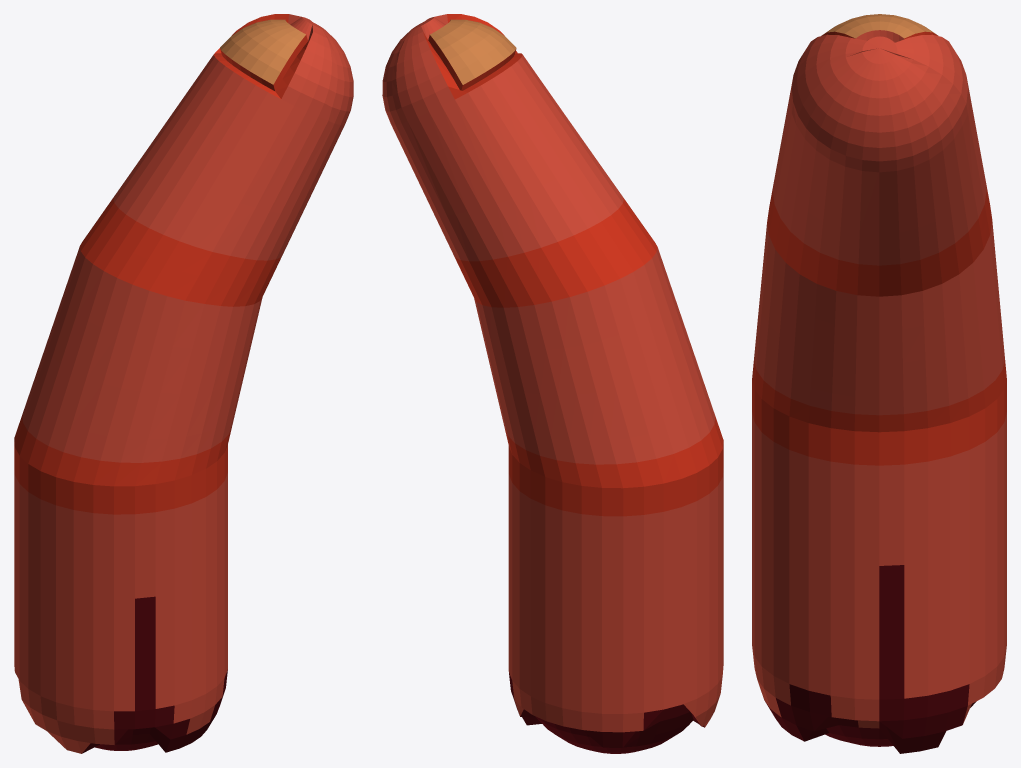
Rendered from finger.obj.
3 views of the same model, side by side, from view 1: azimuth 30°, elevation 25°; view 2: azimuth 150°, elevation 25°; view 3: azimuth 270°, elevation 25° (orthographic). The views are drawn at different scales.
Parts seen in each view (by area): view 1: Sphere; view 2: Sphere; view 3: Sphere.
Boxes of the visible parts, x1,y1,x2,y2 form: Sphere: (14, 14, 353, 753); Sphere: (382, 14, 723, 753); Sphere: (752, 14, 1006, 753).
Bounding box in the file's own units: 3.4 × 6.97 × 2.
